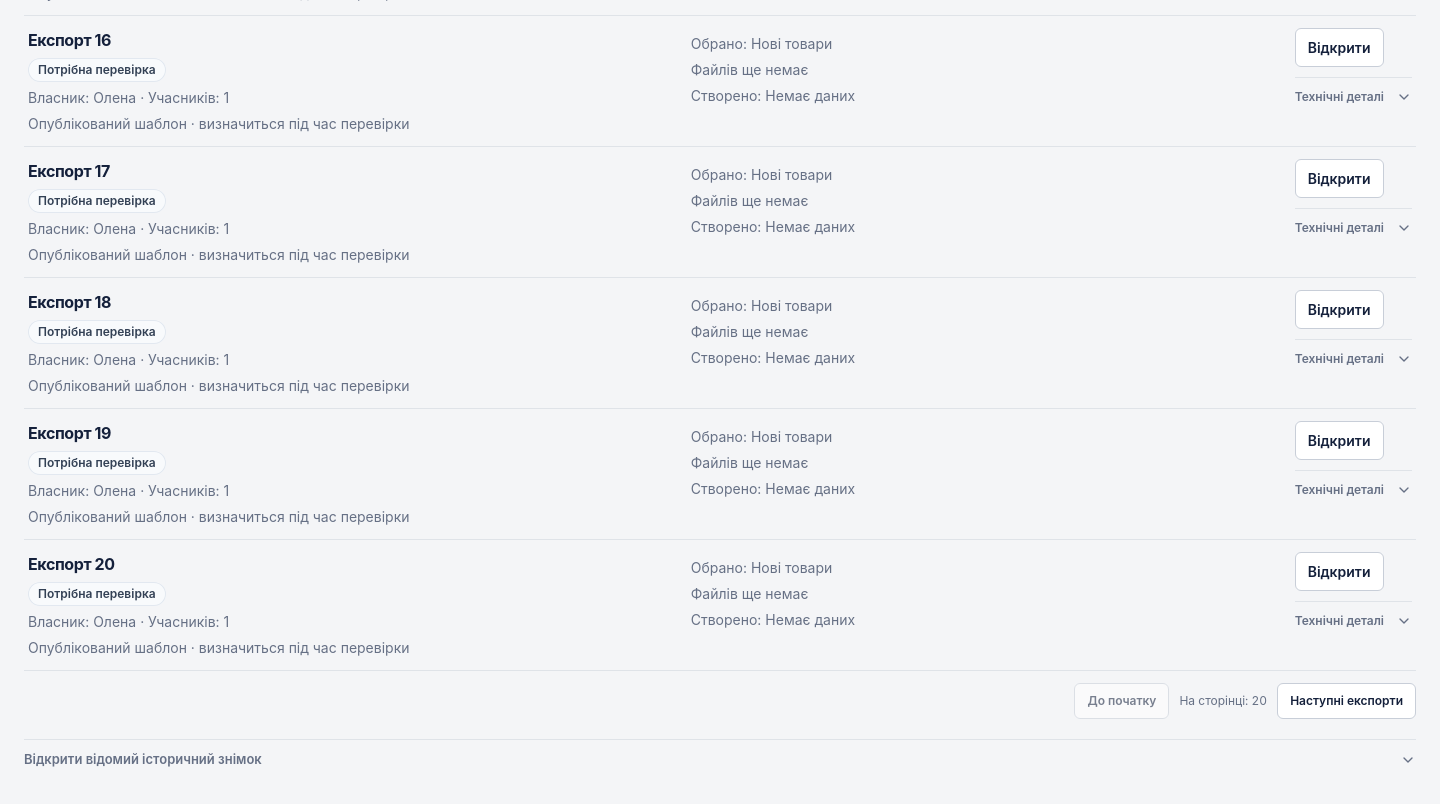
Test: replaces session pages and returns to the same page after opening a session
(page scrolled)
Expected: the text "На сторінці: 20" is shown, [1179,692,1267,710]
What coordinates should you click on to do the following:
click the button "Наступні експорти"
I would click on:
 (1347, 701)
Its box is [1277,683,1416,719].
(page scrolled)
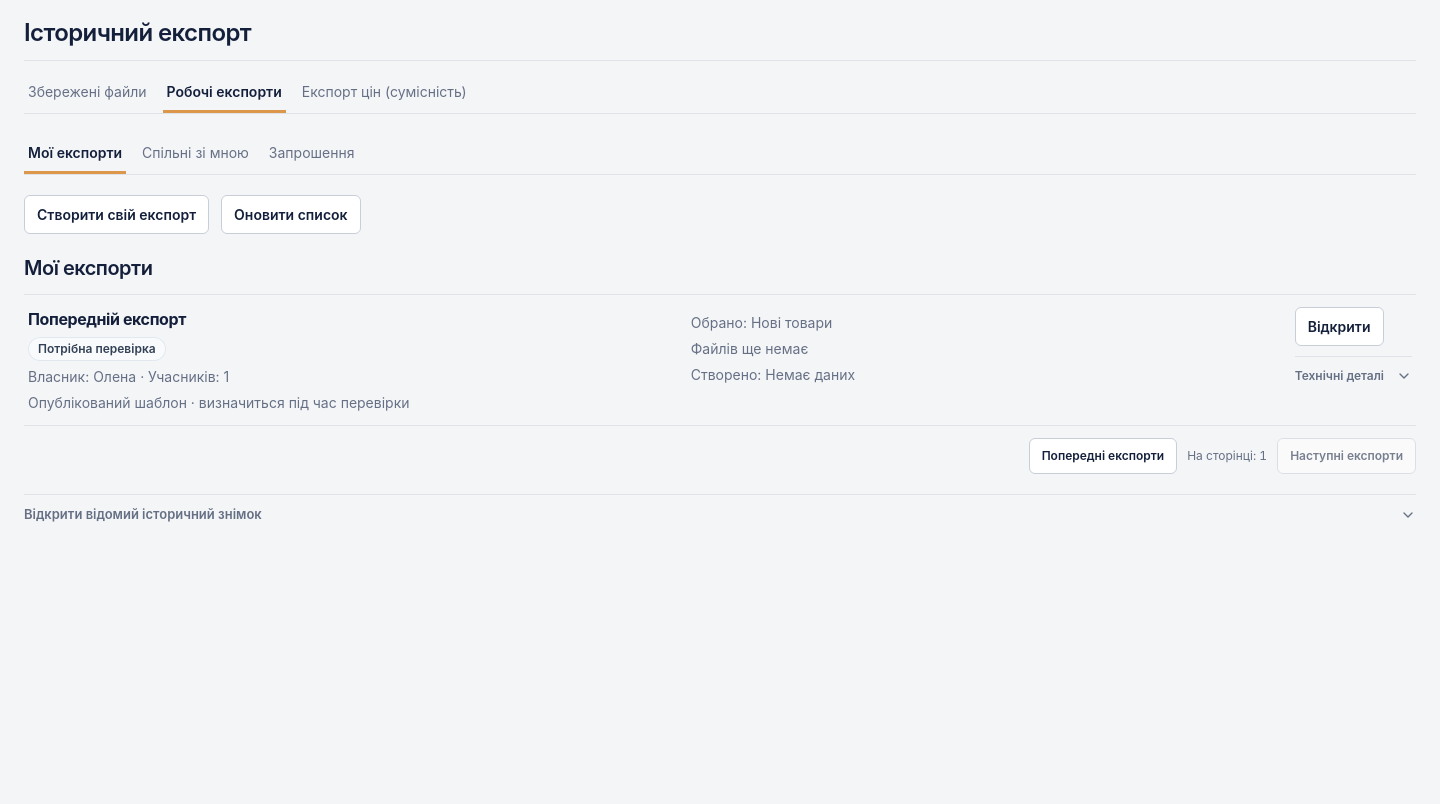
Now the text "На сторінці: 1" is shown, box [1187,447,1267,465]
Now the number of list items with class "export-workspace-row" is 1, box [24,295,1416,426]
What coordinates should you click on to do the following:
click the link with aria-label "Відкрити / продовжити Попередній експорт"
I would click on:
 (1339, 326)
Its box is [1295,307,1384,346].
(page scrolled)
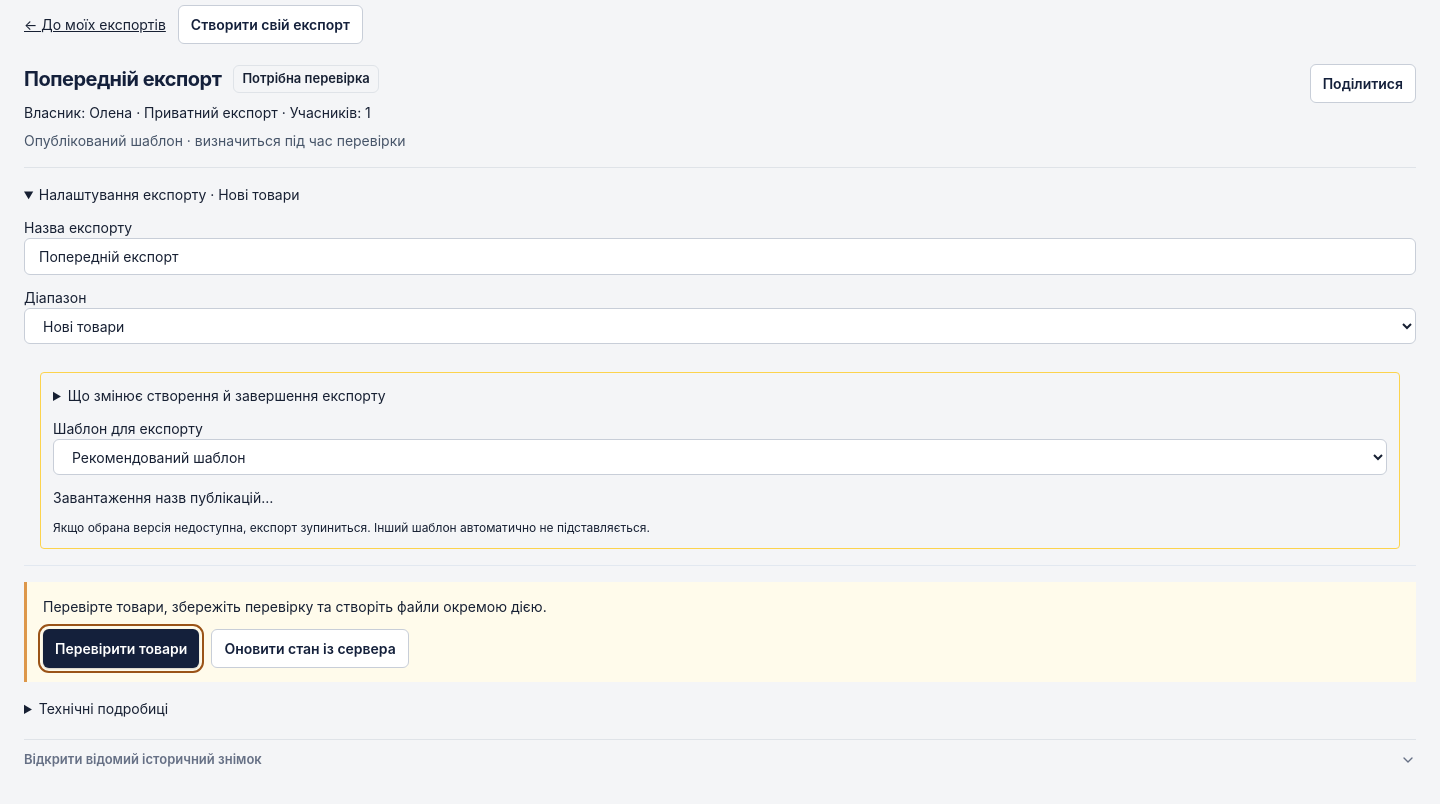
Now the field labelled "Назва експорту" is shown, box [24,238,1416,275]
What coordinates should you click on to do the following:
click the link "← До моїх експортів"
I would click on:
 (95, 24)
Its box is [24,14,166,35].
(page scrolled)
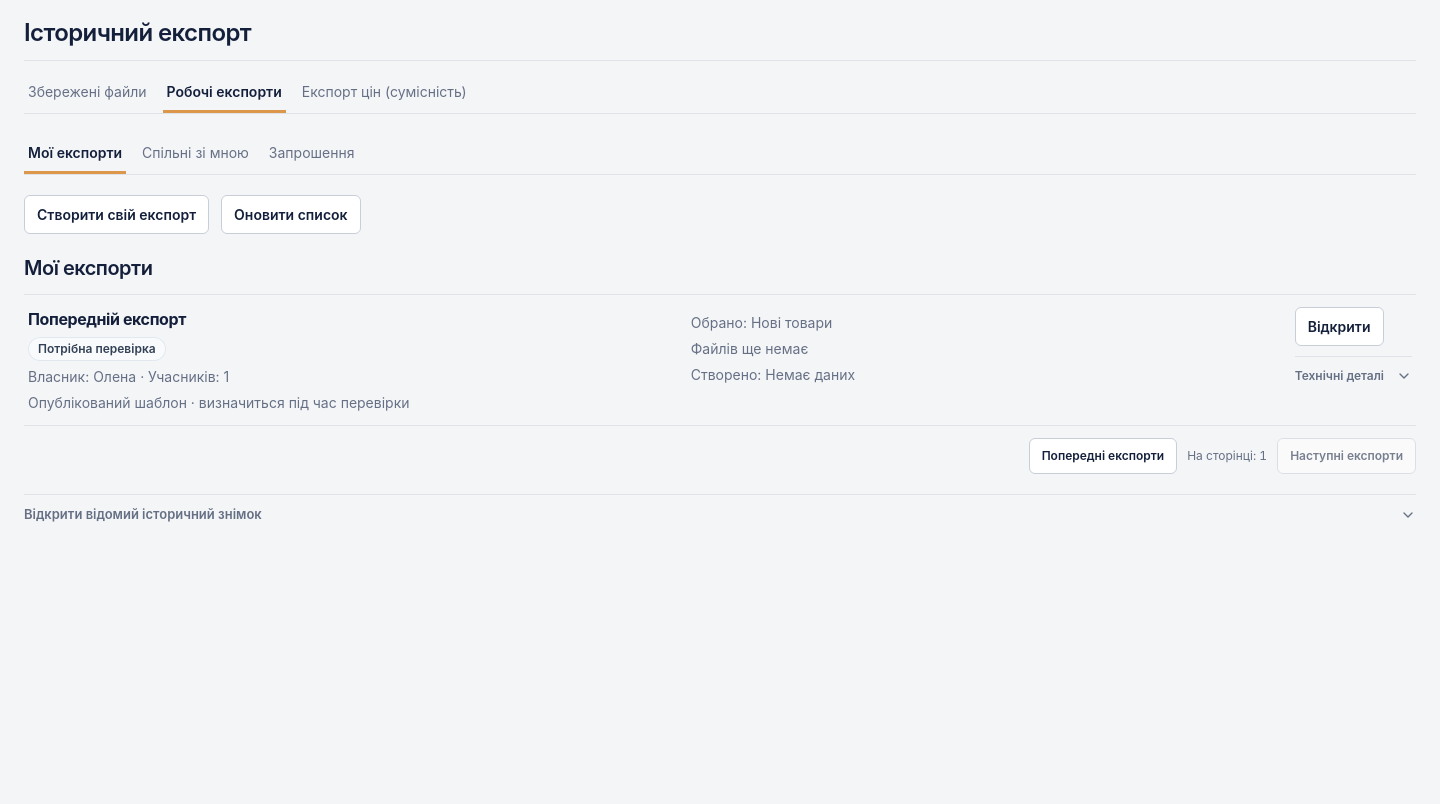
Now the text "На сторінці: 1" is shown, box [1187,447,1267,465]
What coordinates should you click on to do the following:
click the button "Попередні експорти"
I would click on:
 (1103, 456)
Its box is [1029,438,1177,474].
(page scrolled)
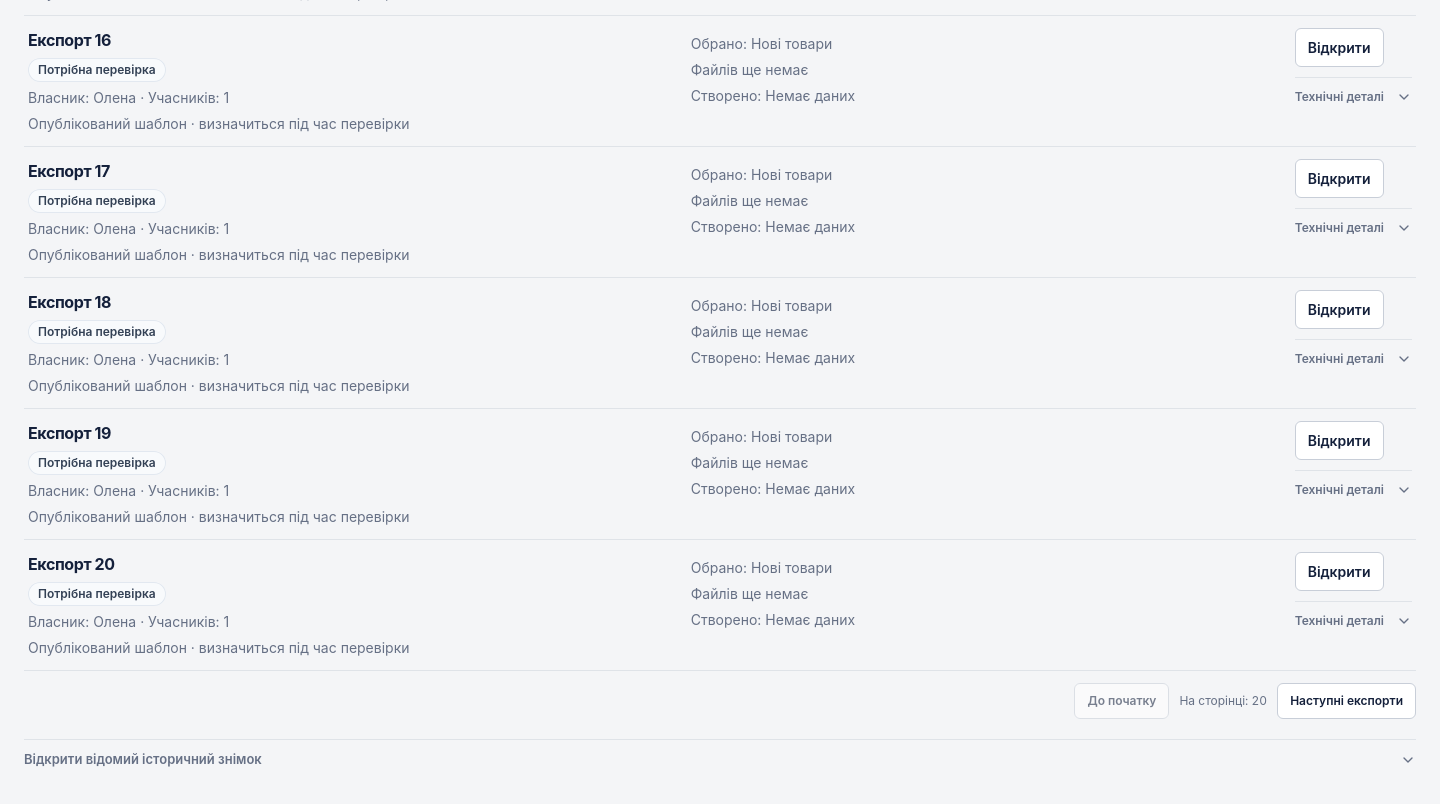
Now the text "На сторінці: 20" is shown, box [1179,692,1267,710]
